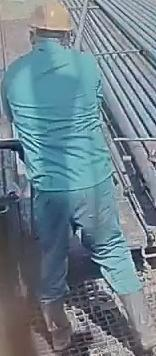helmet: (29, 0, 75, 32)
vest: (10, 49, 110, 187)
